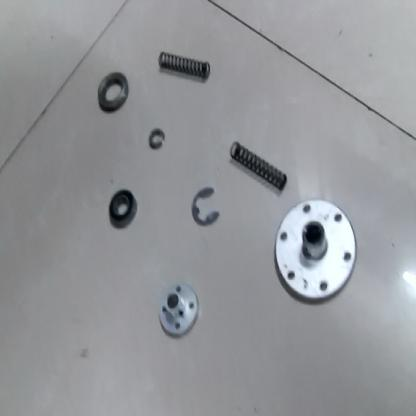FOD: (272, 197, 358, 308), (228, 137, 293, 194), (158, 278, 200, 338), (155, 49, 216, 83), (95, 69, 131, 118), (104, 186, 140, 231), (190, 184, 221, 228), (145, 125, 166, 155)
